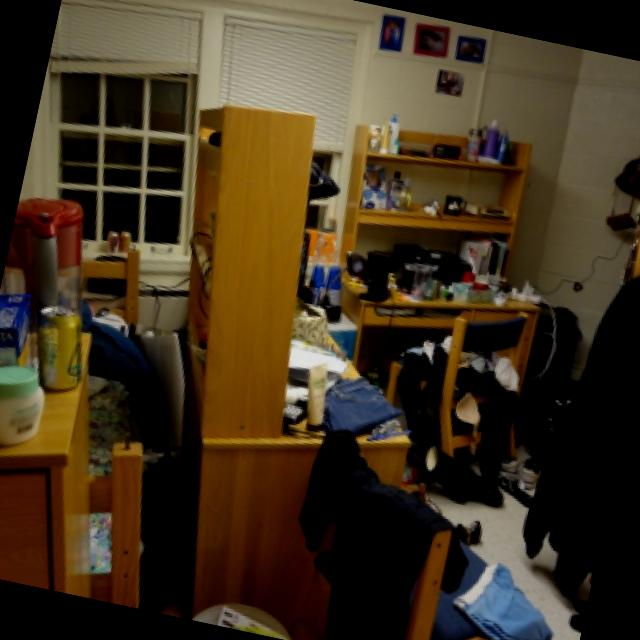mess: (29, 297, 224, 614), (375, 318, 637, 548), (284, 432, 572, 640), (225, 234, 408, 468), (0, 190, 126, 498), (332, 150, 539, 318)
